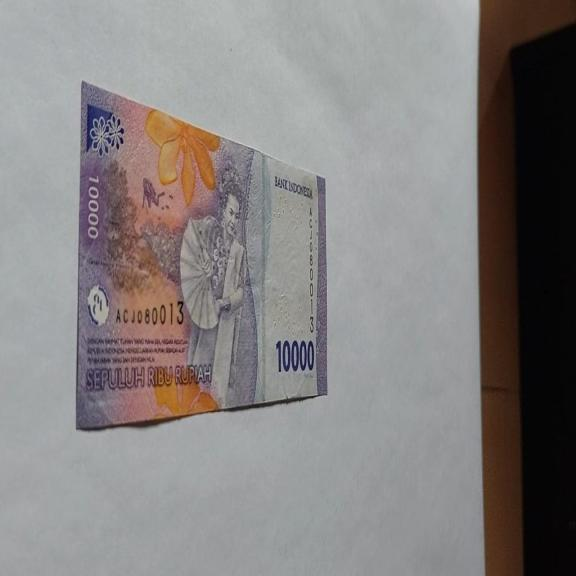Kertas: (75, 78, 328, 432)
